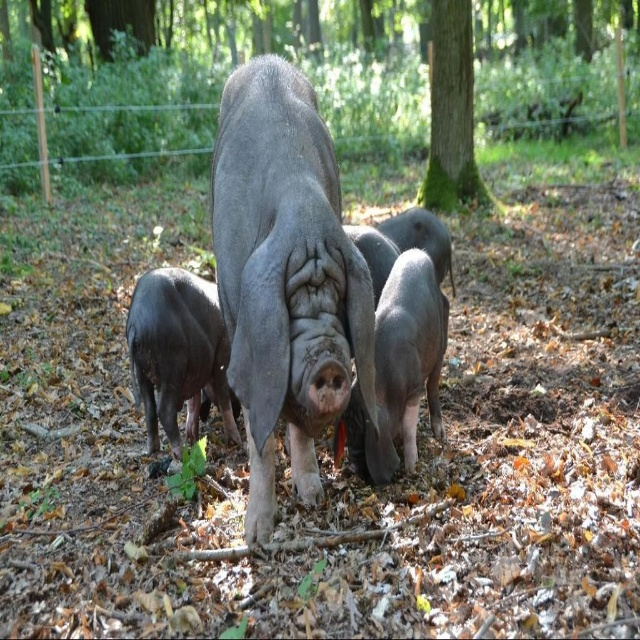Pig: (125, 50, 456, 546)
